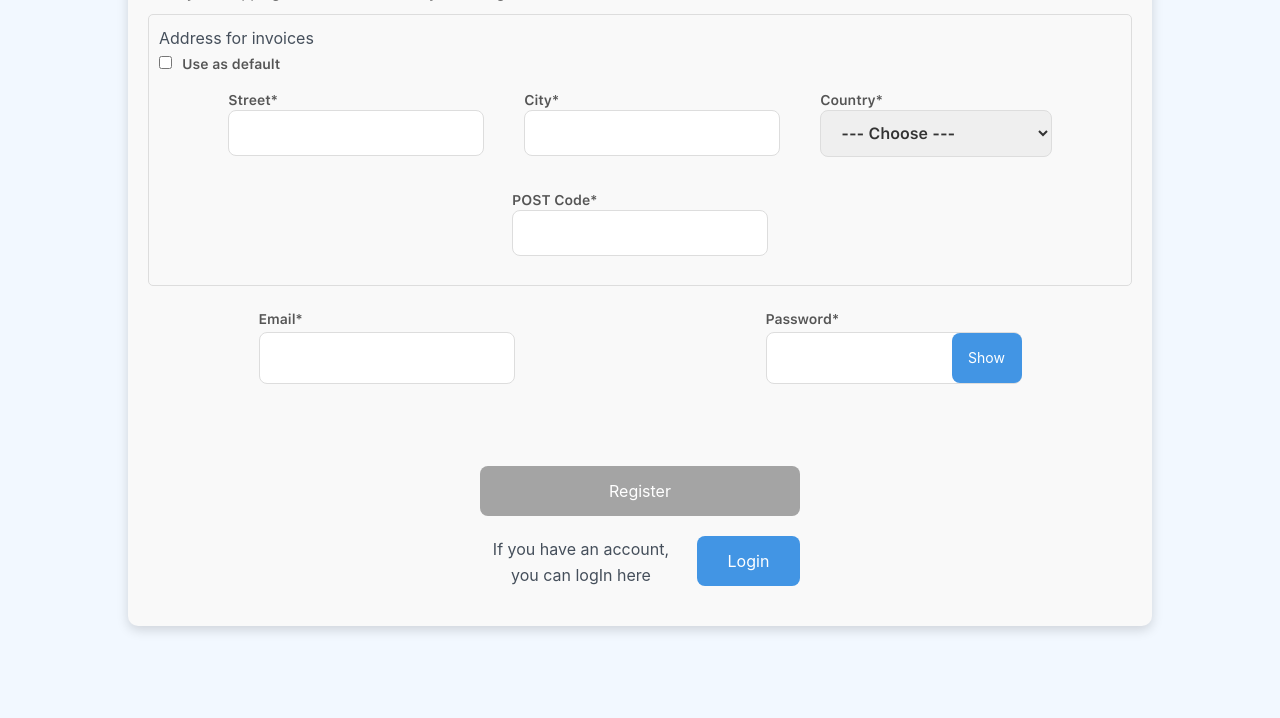
checking input wrong value on Registration page › checking input wrong value for password on Registration page
The image size is (1280, 718).
(page scrolled)
Type "oopsididit2times" into the password field labelled "Password*" at (894, 358), box [766, 332, 1022, 384]
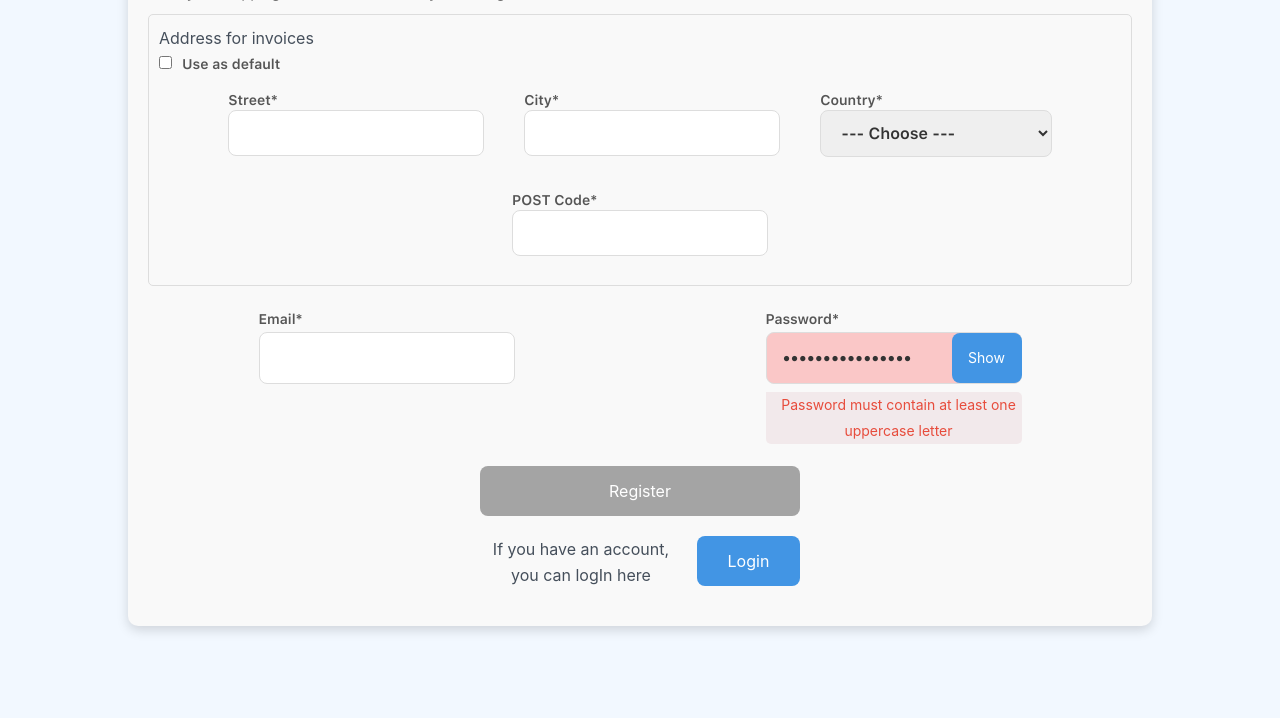
expect the text "Password must contain at least one uppercase letter" is shown: met, box [766, 392, 1022, 444]
